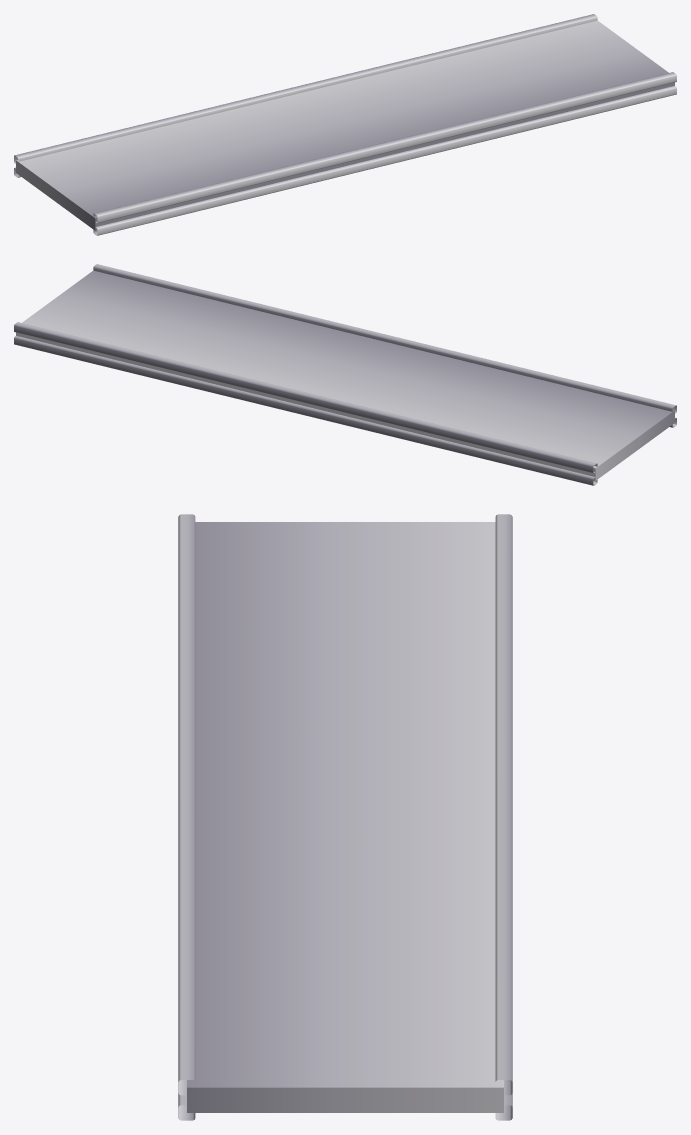
The model's file is General_FloorAisleBaked2.fbx.
3 views of the same model, one above another, from view 1: azimuth 30°, elevation 25°; view 2: azimuth 150°, elevation 25°; view 3: azimuth 270°, elevation 25° (orthographic). The views are drawn at different scales.
Parts seen in each view (by area): view 1: General_FloorAisleBaked2; view 2: General_FloorAisleBaked2; view 3: General_FloorAisleBaked2.
Part boxes in pixels (<box>): General_FloorAisleBaked2: <box>14,14,676,235</box>; General_FloorAisleBaked2: <box>14,264,676,485</box>; General_FloorAisleBaked2: <box>178,514,512,1120</box>.
Bounding box in the file's own units: 513 × 17.15 × 128.
